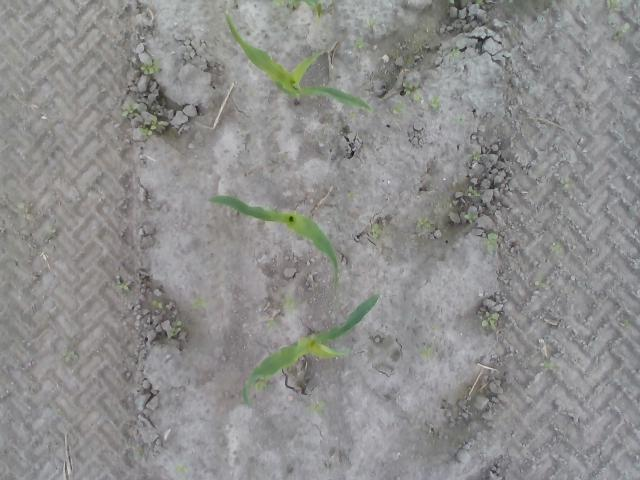Maize: (238, 294, 382, 406), (222, 12, 374, 114), (206, 195, 343, 288)
Weeds: (402, 80, 424, 103), (480, 311, 500, 331), (120, 101, 140, 119), (140, 118, 157, 137), (139, 61, 160, 75), (482, 232, 498, 250), (169, 319, 182, 338), (62, 350, 79, 363), (311, 402, 326, 416), (466, 185, 482, 198), (191, 297, 208, 309), (416, 216, 430, 230), (254, 378, 270, 390), (371, 223, 382, 239), (464, 212, 478, 224), (431, 96, 442, 110), (394, 100, 406, 112), (605, 0, 622, 8), (466, 151, 480, 160), (550, 242, 560, 254), (114, 280, 128, 288), (150, 299, 162, 308), (355, 38, 365, 48), (451, 48, 459, 54)
